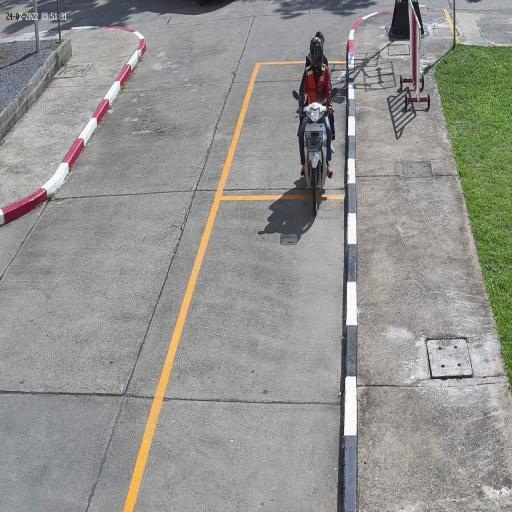motorcycle: (302, 102, 330, 218)
